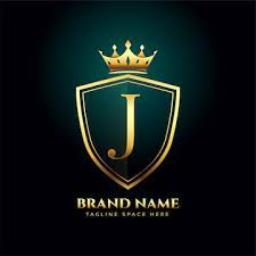a: (97, 197, 107, 209)
b: (76, 196, 86, 210)
d: (118, 196, 132, 210)
e: (170, 196, 180, 210)
j: (102, 86, 152, 164)
m: (157, 197, 171, 211)
n: (107, 196, 119, 210)
r: (87, 196, 97, 210)
